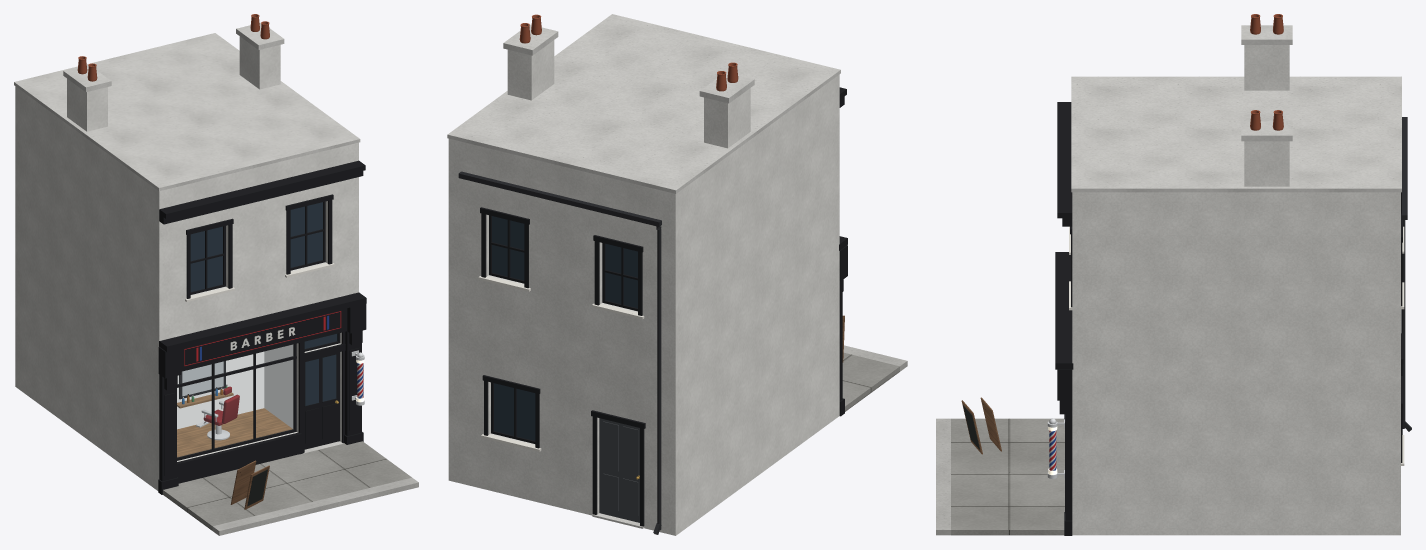
The model's file is barber-shop.glb.
The picture shows the model from 3 angles, left to right: view 1: azimuth 30°, elevation 25°; view 2: azimuth 150°, elevation 25°; view 3: azimuth 270°, elevation 25°; orthographic projection. The views are drawn at different scales.
Parts seen in each view (by area): view 1: Barber_Shop; view 2: Barber_Shop; view 3: Barber_Shop.
Boxes of the visible parts, box(x1,y1,x2,y2) form: Barber_Shop: box(14, 14, 418, 535); Barber_Shop: box(447, 14, 907, 535); Barber_Shop: box(936, 14, 1411, 535).
Size of the model in its own units: 5.26 by 9.08 by 9.42.
Materials: 28 (10 with a texture image).
